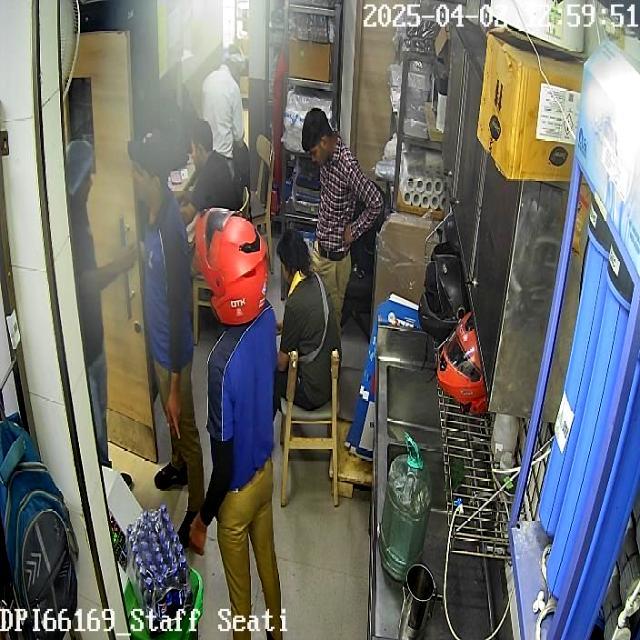helmet: (192, 209, 268, 326), (437, 311, 489, 414), (418, 255, 469, 342)
no_helmet: (276, 227, 311, 286), (66, 138, 95, 207), (302, 108, 336, 165), (188, 118, 213, 166)
